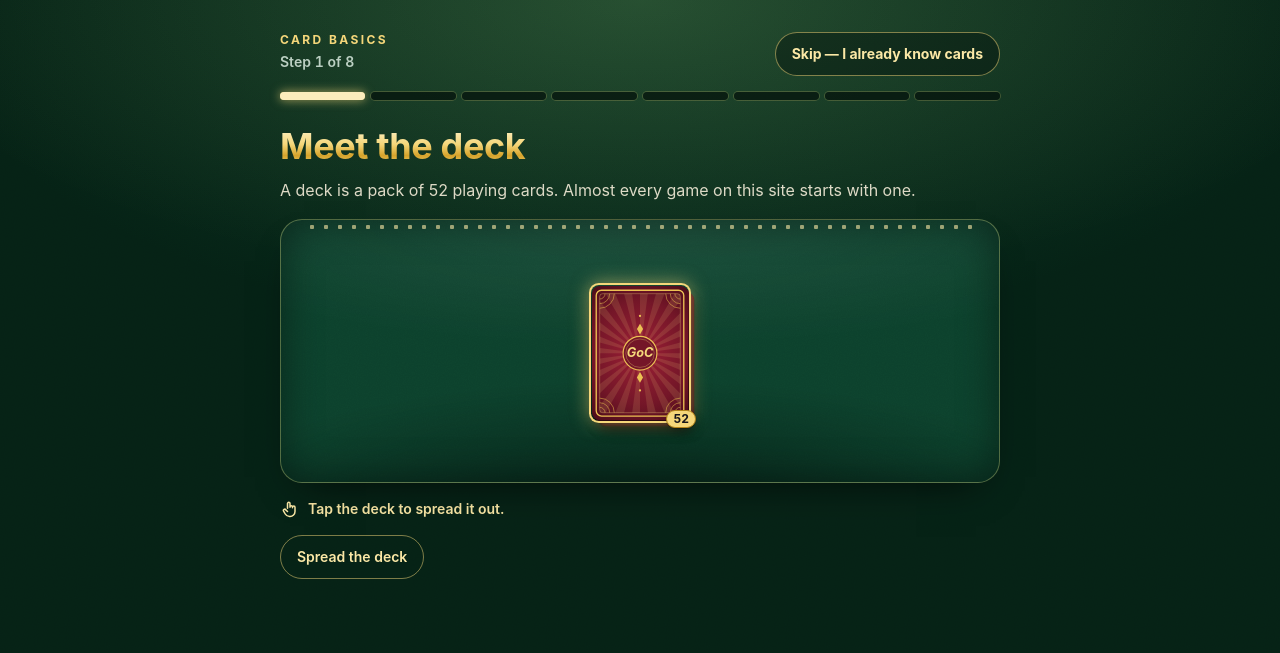
Test: Primer interactions › spreads the deck when it is tapped
Click the button with aria-label "The deck, 52 cards".
click(640, 353)  # box [592,286,688,420]
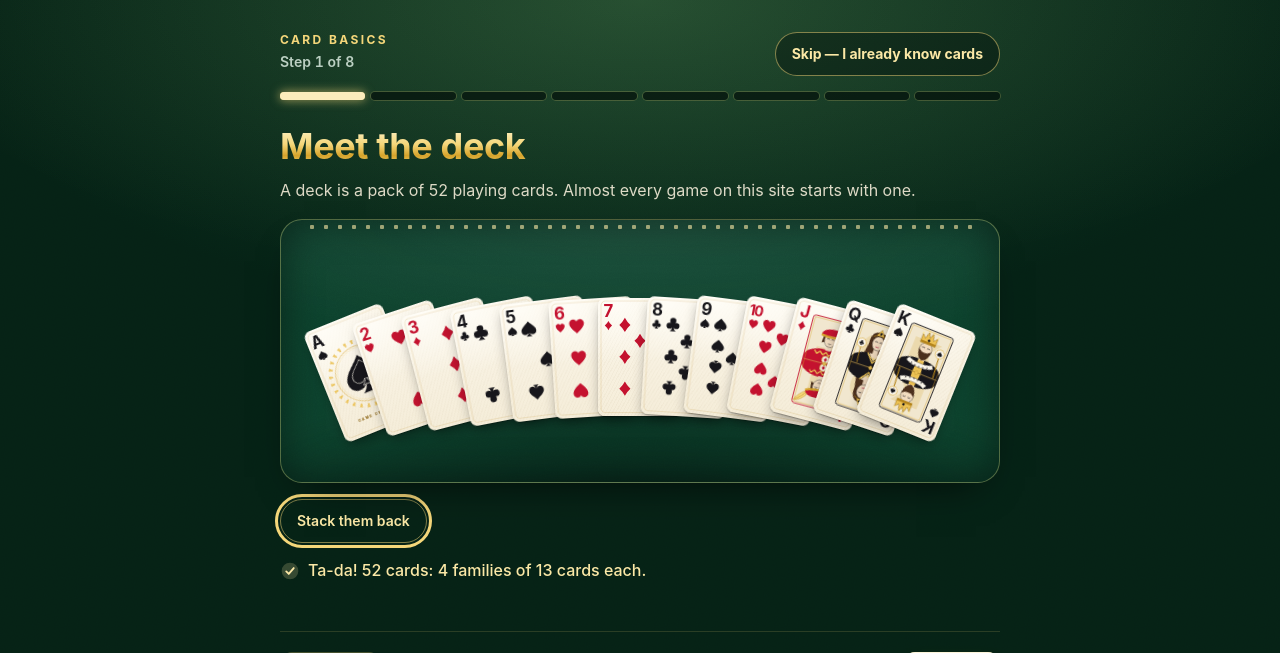
Result: the message shows "52 cards: 4 families of 13 cards each" at [308,560,646,580]
Result: the list named "The deck, spread out" is shown at [305,271,975,435]
